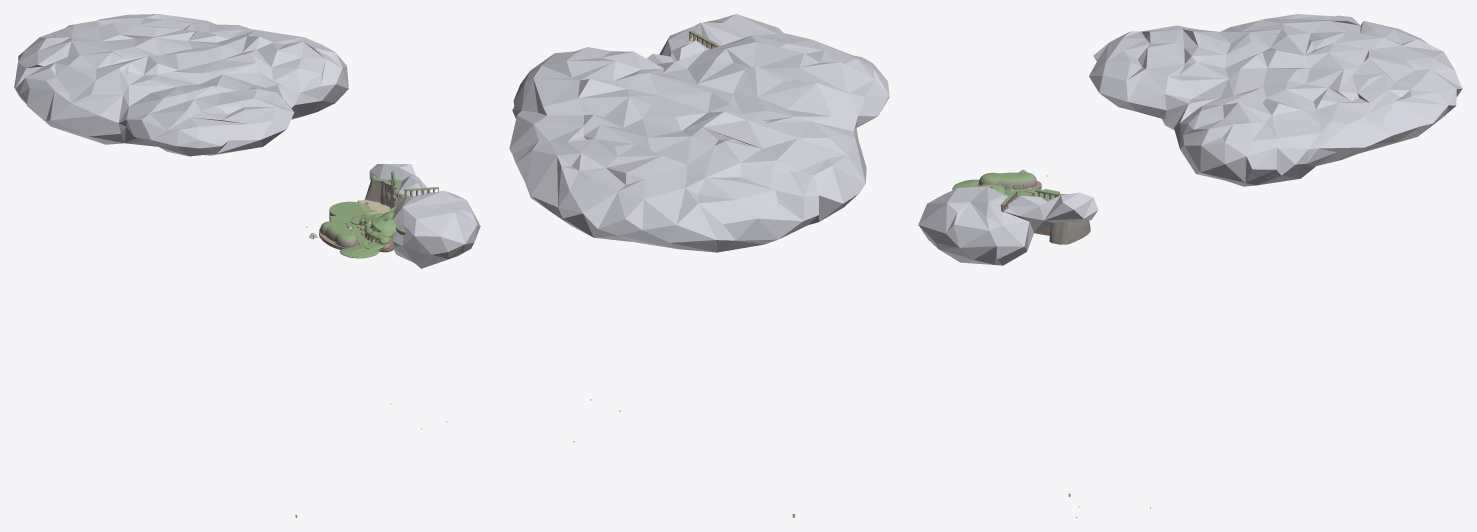
The model's file is BstBaked.glb.
The picture shows the model from 3 angles, left to right: view 1: azimuth 30°, elevation 25°; view 2: azimuth 150°, elevation 25°; view 3: azimuth 270°, elevation 25°; orthographic projection. The views are drawn at different scales.
Parts seen in each view (by area): view 1: BstBaked_cloud, BstBaked_terrain; view 2: BstBaked_cloud; view 3: BstBaked_cloud, BstBaked_terrain.
Boxes of the visible parts, x1,y1,x2,y2 form: BstBaked_cloud: (14, 14, 480, 268); BstBaked_terrain: (319, 171, 438, 258); BstBaked_cloud: (509, 14, 889, 252); BstBaked_cloud: (918, 14, 1462, 265); BstBaked_terrain: (952, 172, 1090, 244).
Bounding box in the file's own units: 285 × 350 × 405.
